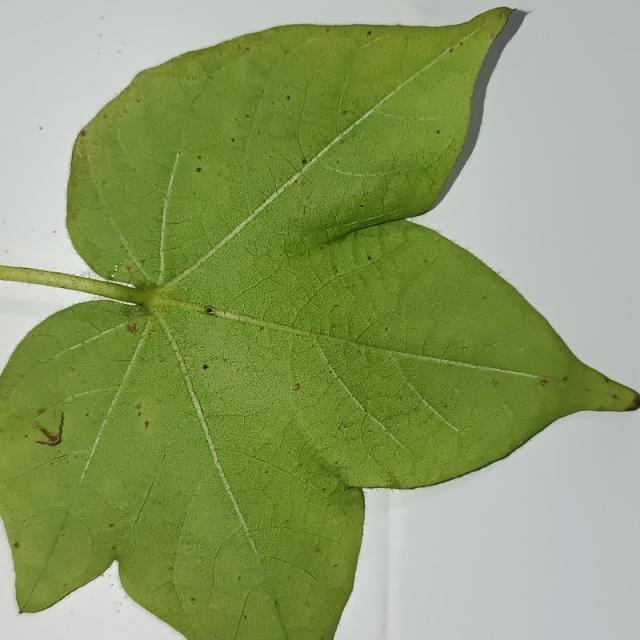Bacterial_Blight: (29, 407, 68, 447), (121, 304, 158, 340), (135, 287, 183, 314), (197, 306, 247, 323), (110, 263, 132, 285), (198, 302, 221, 322), (134, 298, 155, 314), (623, 392, 639, 411), (292, 170, 307, 186), (631, 388, 640, 407), (126, 321, 139, 334), (120, 262, 133, 273), (113, 262, 123, 275), (539, 378, 549, 387), (36, 408, 46, 415), (294, 383, 301, 391), (492, 378, 499, 386), (202, 363, 209, 370), (13, 542, 20, 549), (612, 393, 619, 399), (80, 130, 86, 137), (447, 47, 453, 54), (562, 375, 568, 382), (604, 377, 611, 383), (139, 302, 145, 308), (301, 159, 307, 165), (367, 254, 372, 261), (109, 523, 115, 528), (367, 30, 372, 36), (196, 167, 201, 172), (342, 110, 347, 115), (230, 138, 235, 143), (111, 545, 116, 550), (286, 95, 290, 100), (436, 130, 440, 134)
Cotton: (0, 8, 639, 639)
